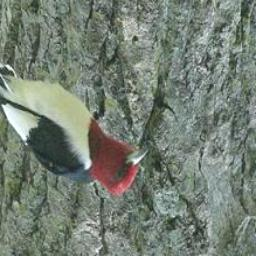Woodpecker: (0, 30, 155, 208)
